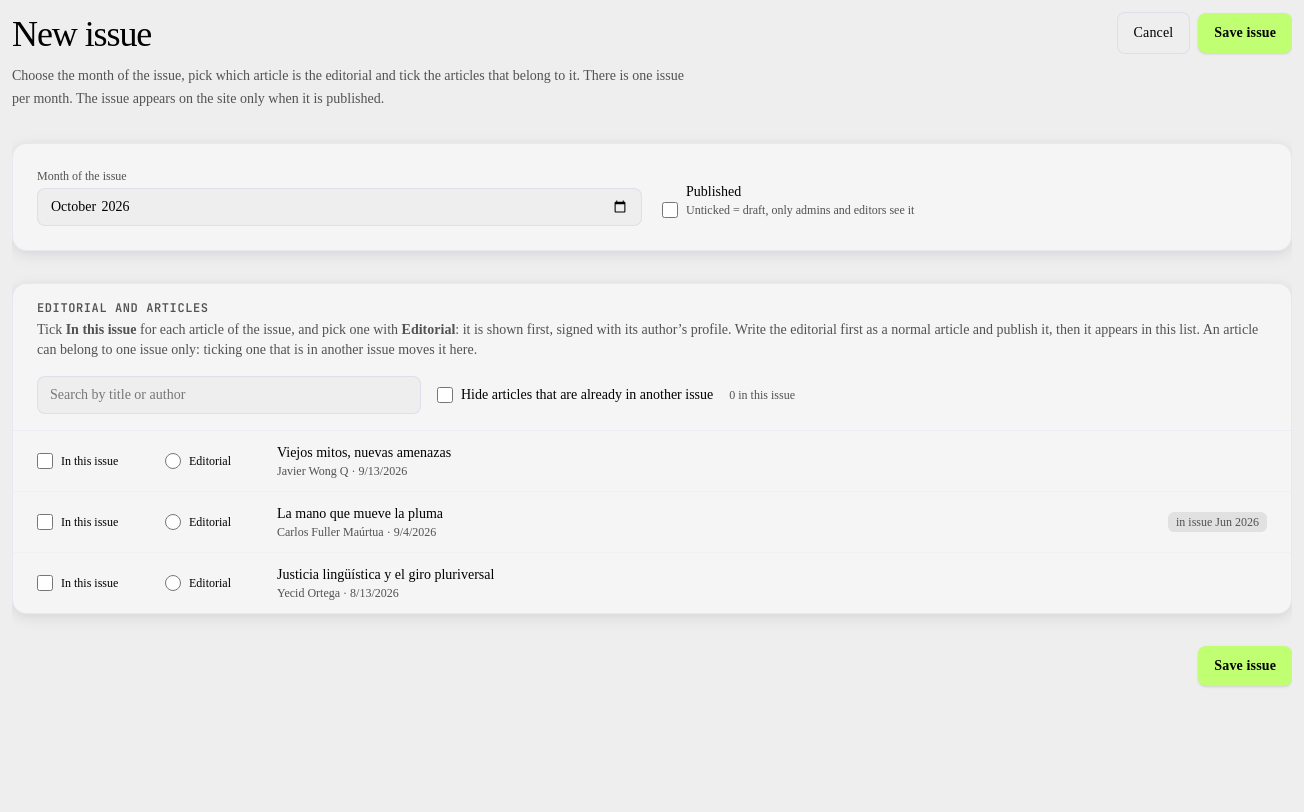
Test case: IssueForm (Admin → Issues) › shows the reason when saving fails and stays on the page
The width and height of the screenshot is (1304, 812).
Click the button "Save issue" in the row of "New issue" at point(1245, 33), box [1198,13,1292,53]
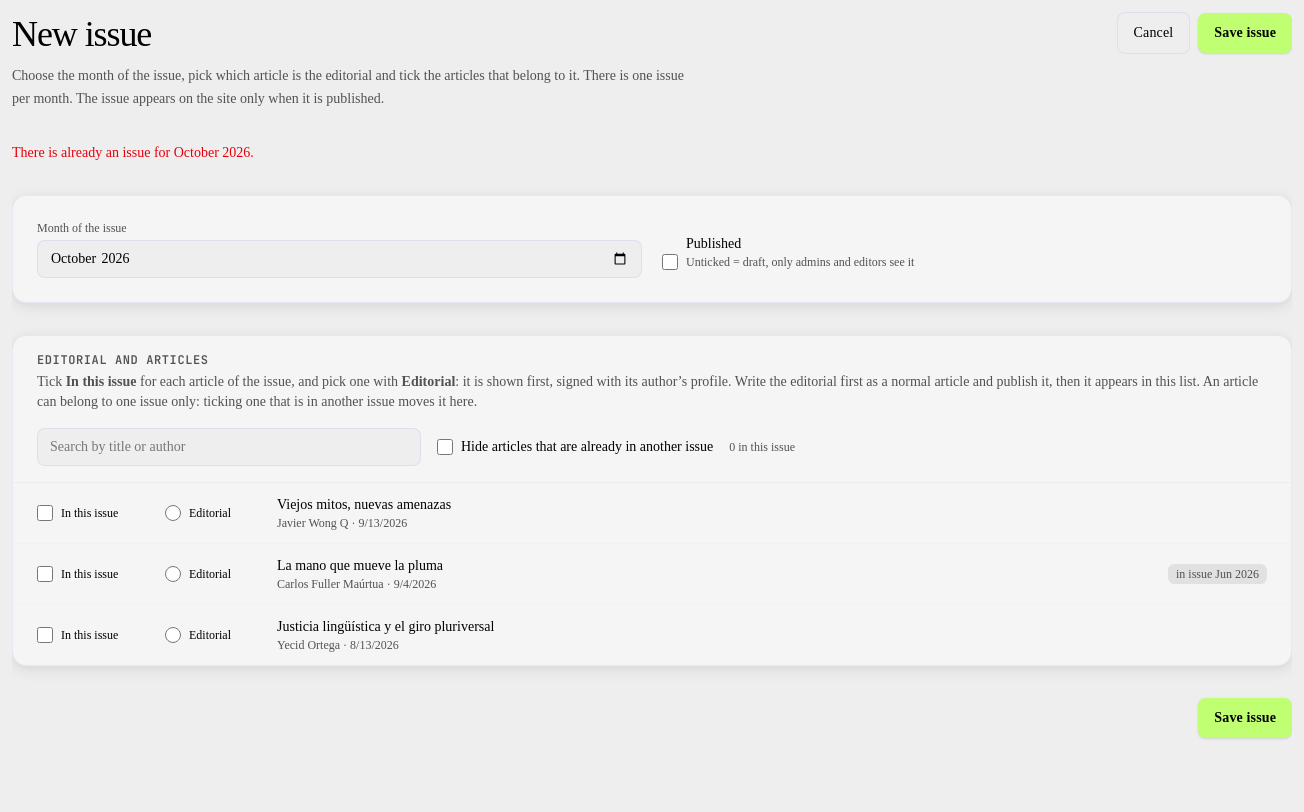
Now the text "There is already an issue for October 2026." is shown, box [12,144,254,160]
